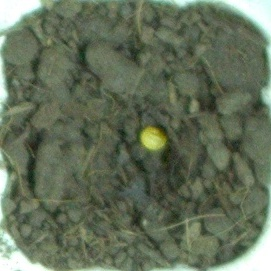pepper seed: (54, 51, 223, 201)
